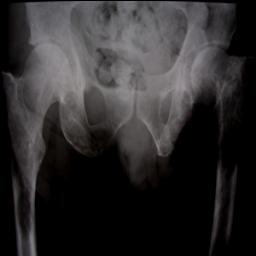cancer: (208, 55, 256, 256), (7, 100, 46, 226), (156, 63, 195, 156), (61, 90, 115, 157)
